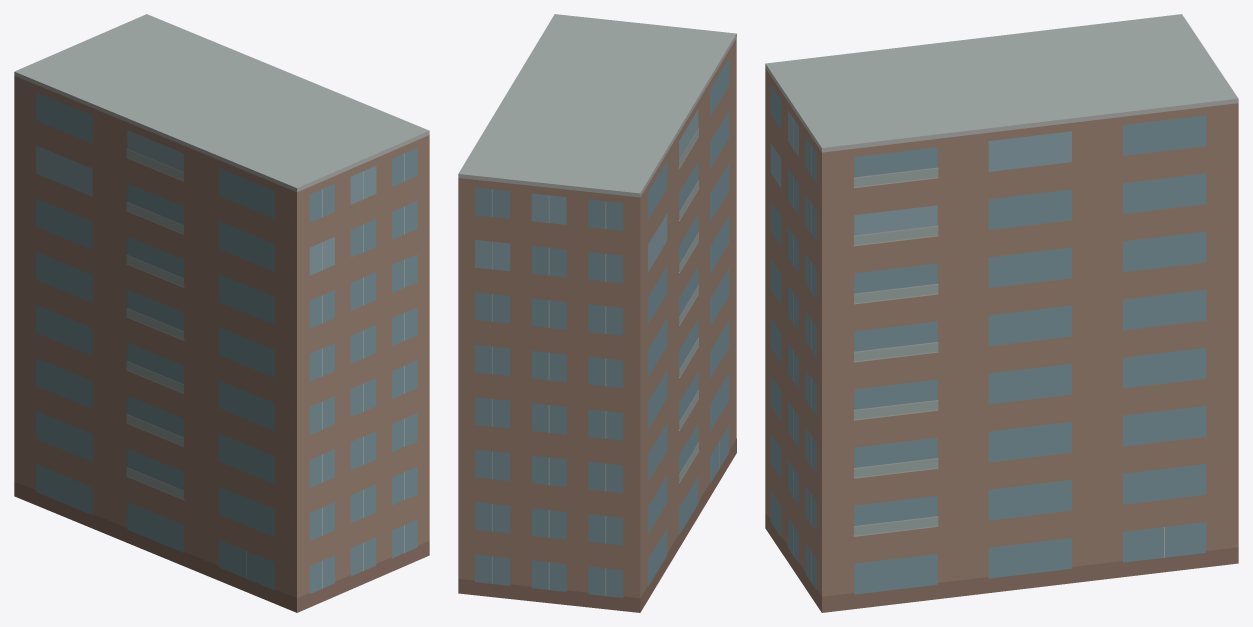
Rendered from survey-upis-33047335.glb.
3 renders of one model, left to right at view 1: azimuth 30°, elevation 25°; view 2: azimuth 150°, elevation 25°; view 3: azimuth 270°, elevation 25°, orthographic. The views are drawn at different scales.
Visible parts, largest first — view 1: survey-upis-33047335.tmp; view 2: survey-upis-33047335.tmp; view 3: survey-upis-33047335.tmp.
Part boxes in pixels (x1=…): survey-upis-33047335.tmp: x1=14, y1=14, x2=429, y2=612; survey-upis-33047335.tmp: x1=458, y1=14, x2=736, y2=612; survey-upis-33047335.tmp: x1=765, y1=14, x2=1238, y2=612.
Size of the model in its own units: 15.73 by 25.4 by 23.44.
